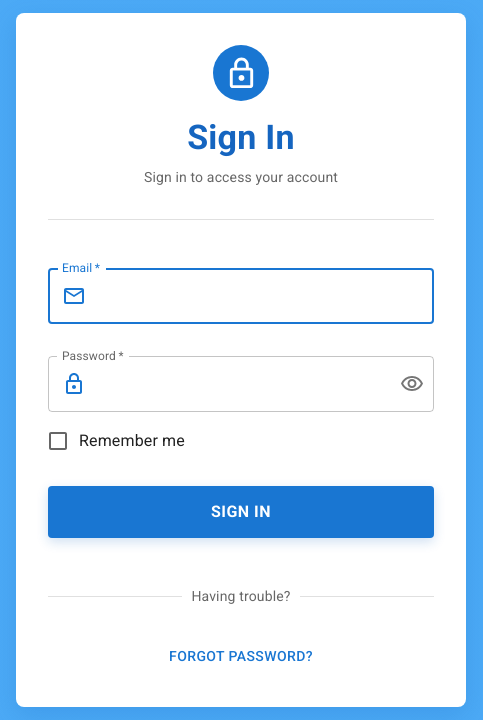
Test: LoginPage › reset password mode › should switch to reset password mode
What coordinates should you click on to do the following:
click the button "Forgot Password?"
I would click on:
 (241, 657)
Its box is [161,638,321,675].
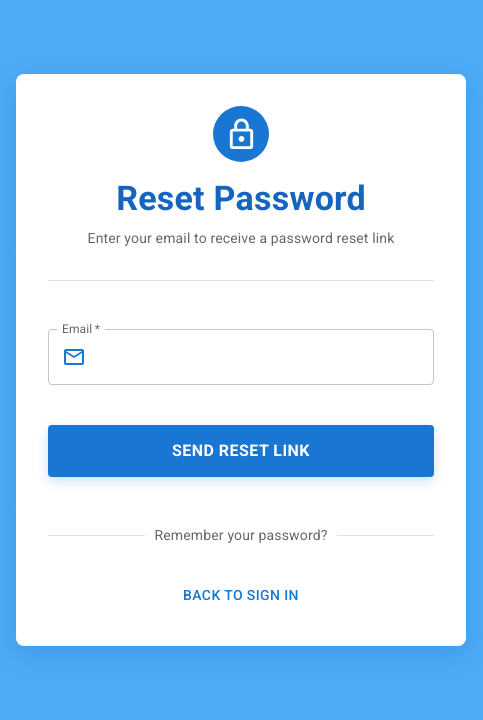
Expected: the heading "Reset Password" is shown, [116,178,366,220]
Expected: the text "Enter your email to receive a password reset link" is shown, [88,228,394,248]
Expected: the button "Send Reset Link" is shown, [48,425,434,477]
